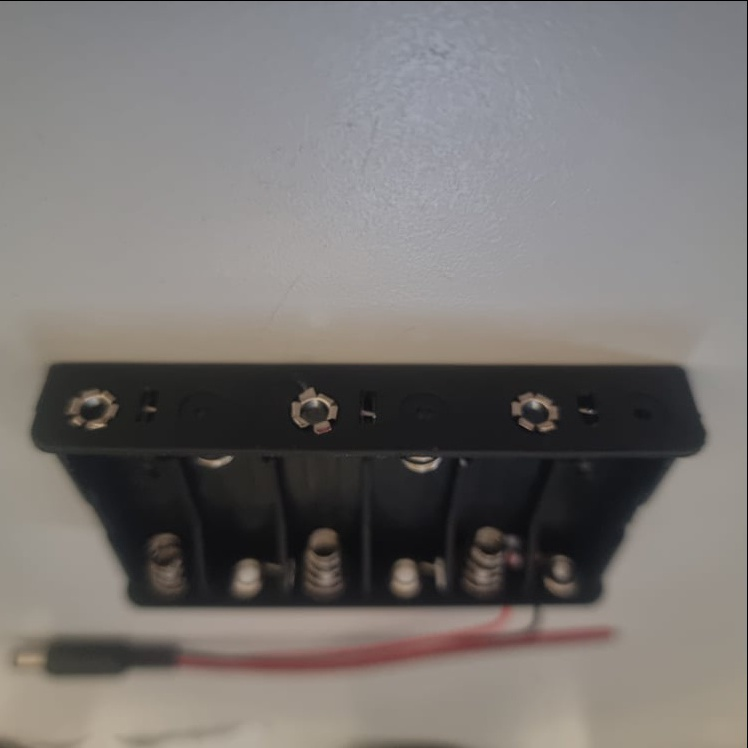BATTERY BOX: (38, 358, 708, 618)
